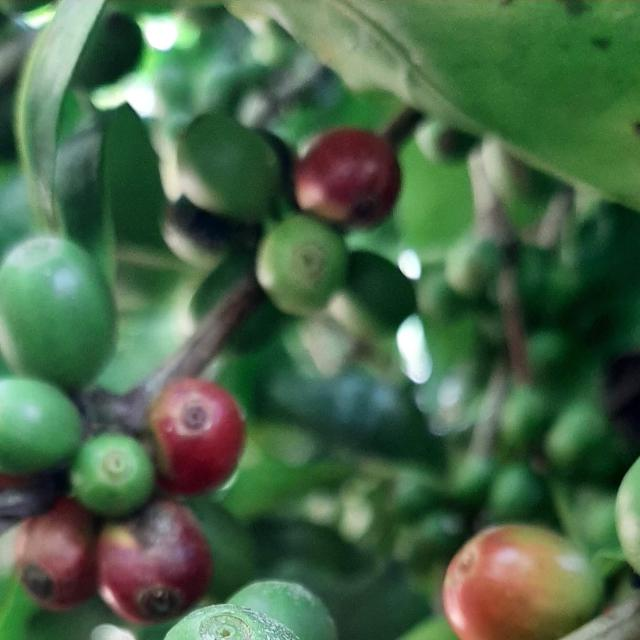green: (1, 235, 115, 389), (177, 113, 280, 223), (256, 215, 348, 316), (0, 378, 81, 476), (162, 196, 259, 271), (69, 434, 154, 517), (228, 581, 338, 640), (164, 605, 299, 640)
red: (96, 501, 212, 626), (295, 128, 401, 226), (14, 499, 95, 612)
yellow: (444, 525, 604, 640), (147, 378, 245, 496)
